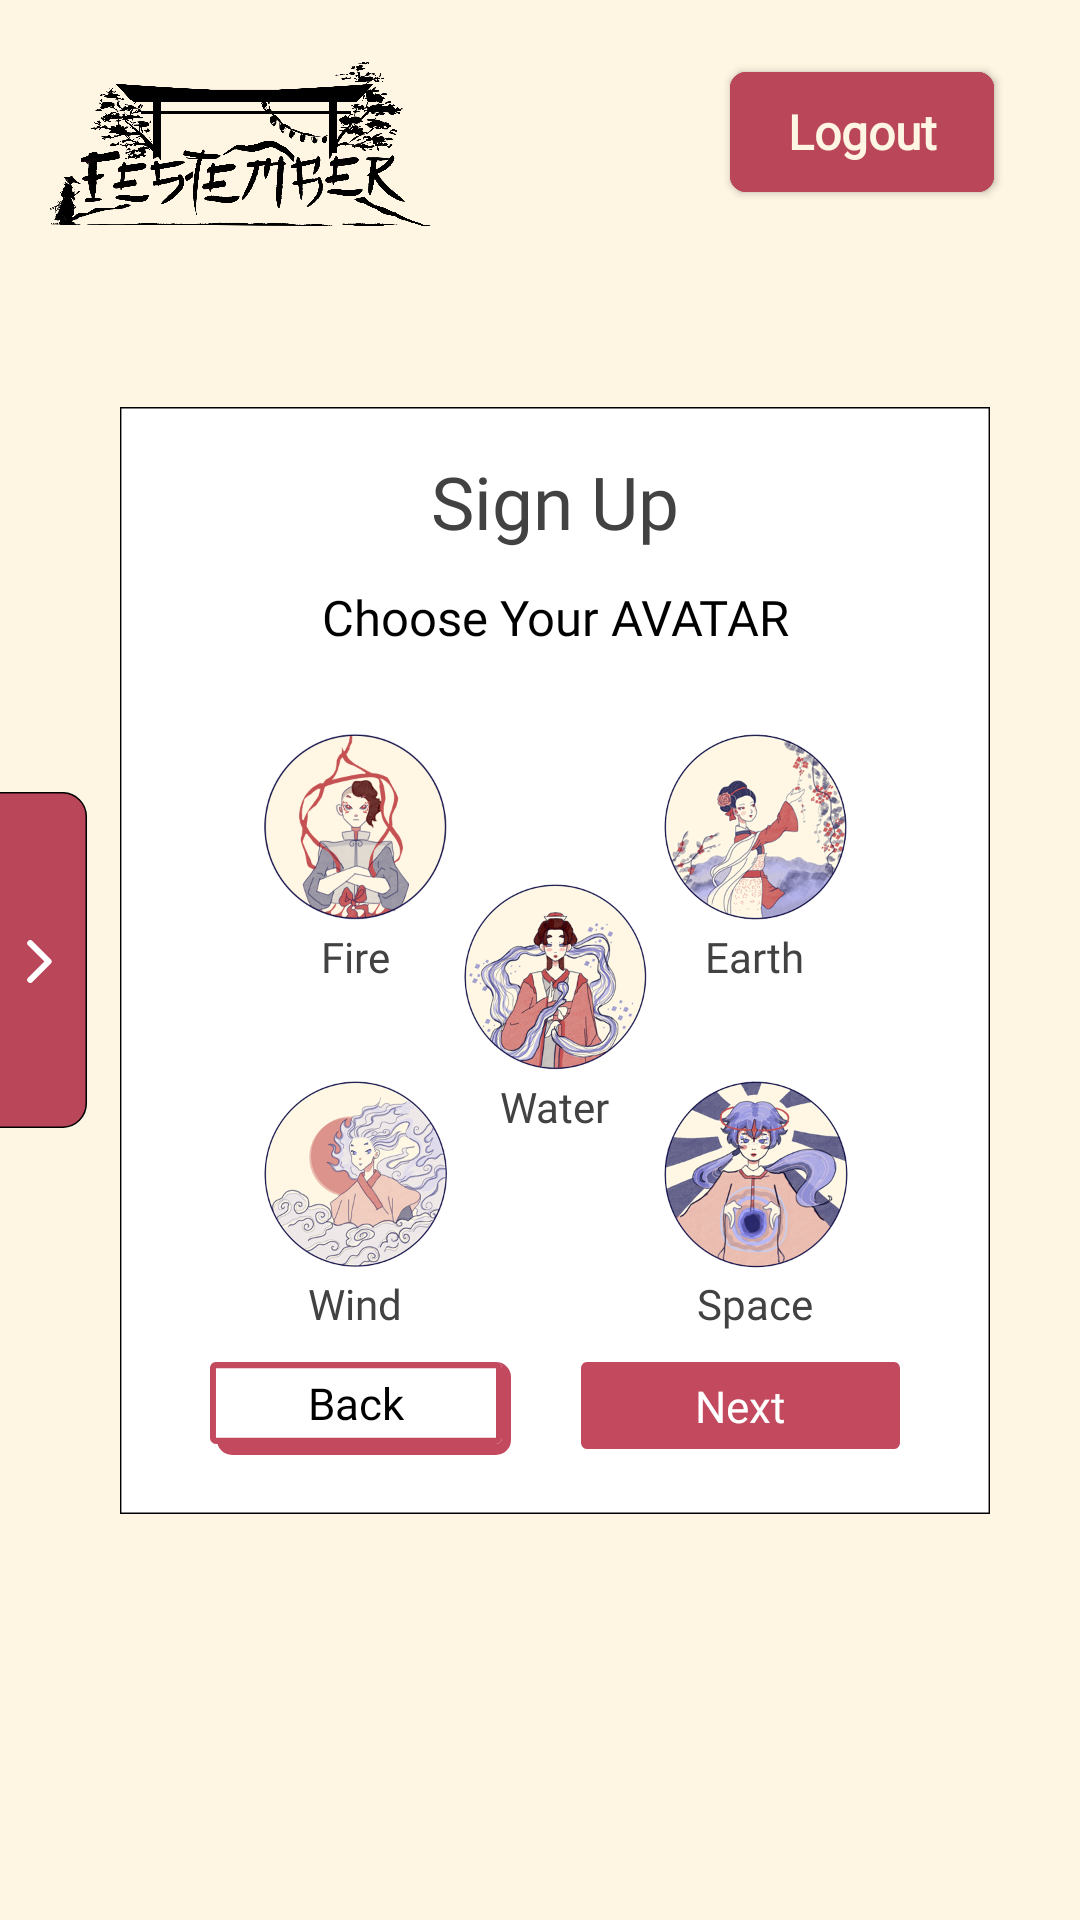

Icon bounding boxes for this 1080px x 1920px phone screenshot, format [x1, y1, x2, y2]:
navicon: [0, 792, 87, 1128]
